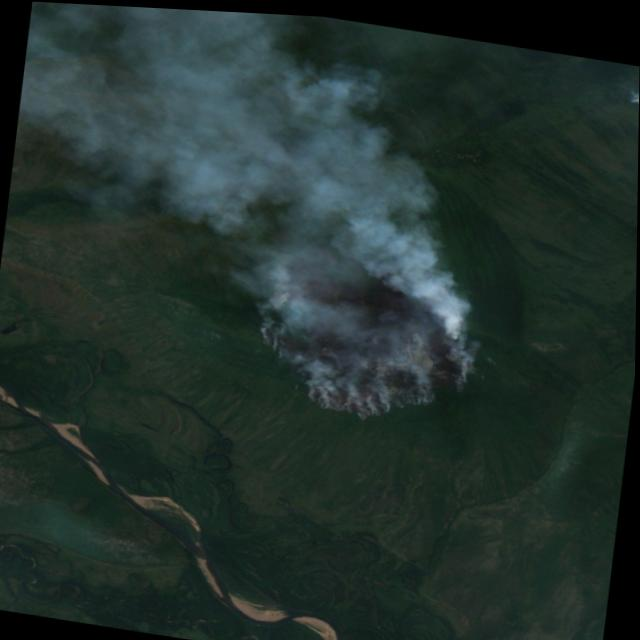fire: (243, 251, 491, 434)
